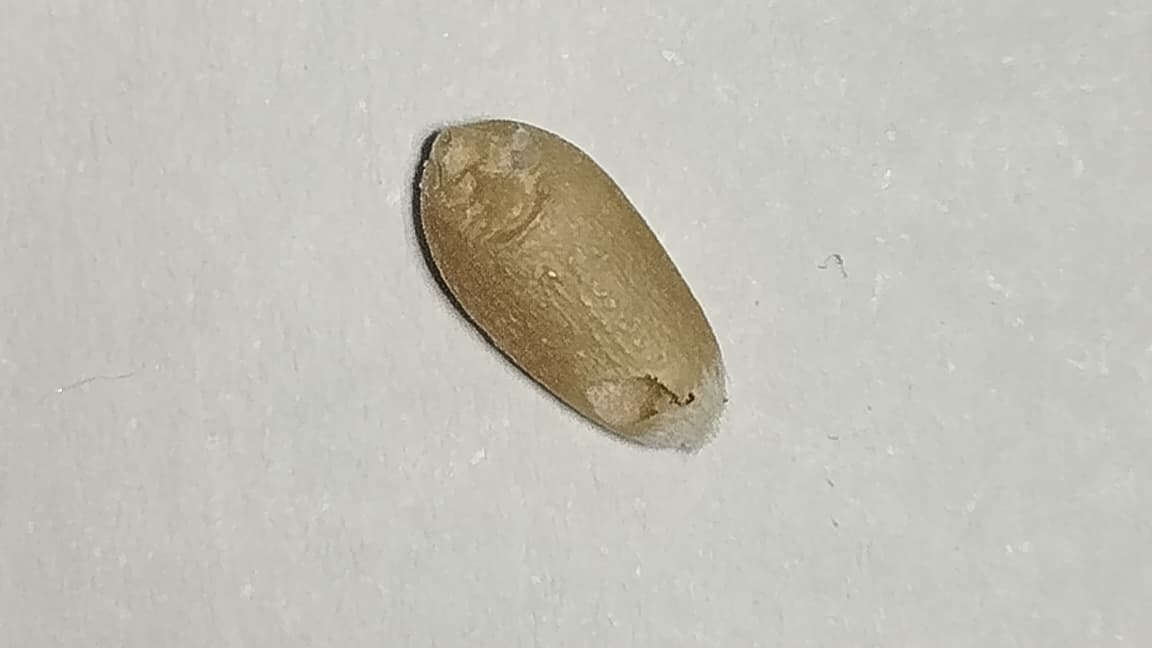damage: (418, 121, 726, 451)
insectdamage: (570, 359, 700, 450)
